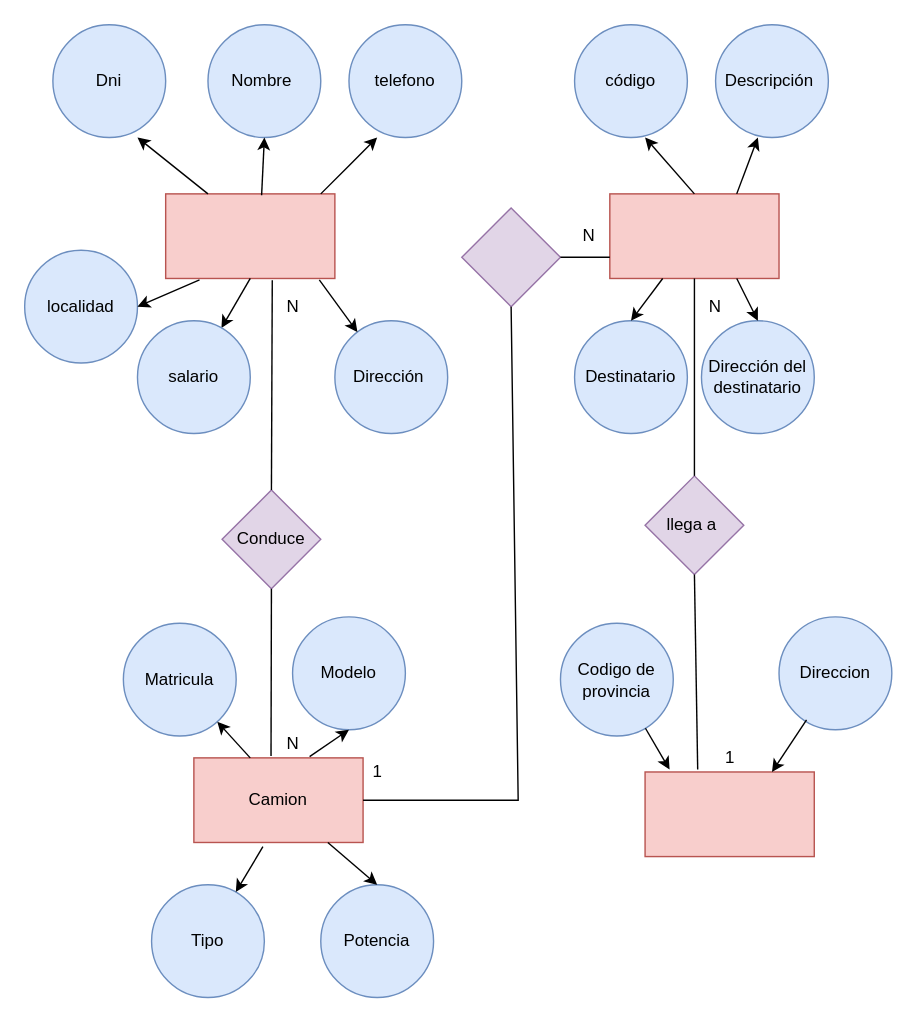
Some shapes in this 917 by 1022 pixel diagram are drawn without their labels. The centre of each missing label's shape, as x and y in pixels:
"camioneros" belongs at point (249, 235).
"lleva" belongs at point (510, 257).
"Paquetes" belongs at point (693, 235).
"Provincia" belongs at point (729, 814).
